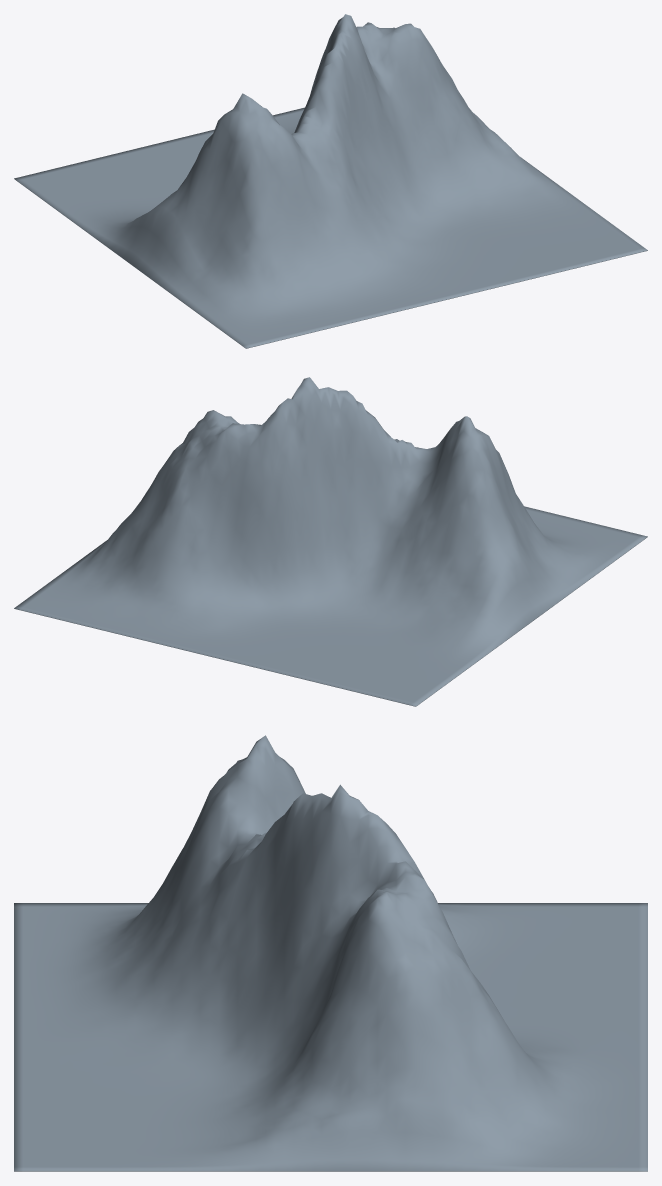
Rendered from SM_RidgeA.fbx.
The picture shows the model from 3 angles, top to bottom: view 1: azimuth 30°, elevation 25°; view 2: azimuth 150°, elevation 25°; view 3: azimuth 270°, elevation 25°; orthographic projection. The views are drawn at different scales.
Visible parts, largest first — view 1: SM_RidgeA; view 2: SM_RidgeA; view 3: SM_RidgeA.
Part boxes in pixels (left/top/right/bottom): SM_RidgeA: left=14, top=14, right=647, bottom=348; SM_RidgeA: left=14, top=377, right=647, bottom=706; SM_RidgeA: left=14, top=735, right=647, bottom=1171.
Size of the model in its own units: 100 by 100 by 46.12.
